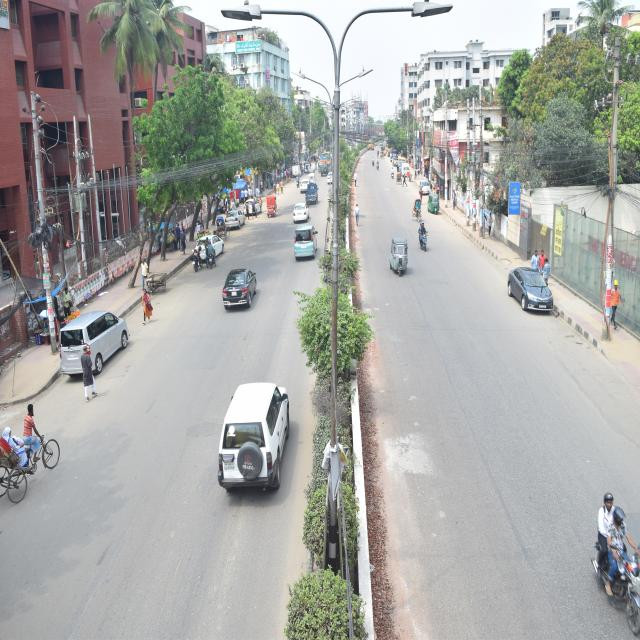bus: (319, 144, 334, 183)
car: (193, 379, 319, 524), (50, 275, 166, 381), (509, 231, 569, 365), (199, 255, 271, 321), (184, 222, 240, 275), (294, 219, 328, 270), (215, 203, 257, 242), (244, 192, 272, 233), (292, 194, 320, 234), (415, 168, 440, 204), (393, 157, 416, 180)
motorbike: (593, 479, 640, 640), (416, 221, 452, 286), (199, 227, 223, 285), (367, 157, 381, 170), (375, 158, 384, 176)
pickup-van: (298, 170, 326, 218), (288, 160, 304, 189)
